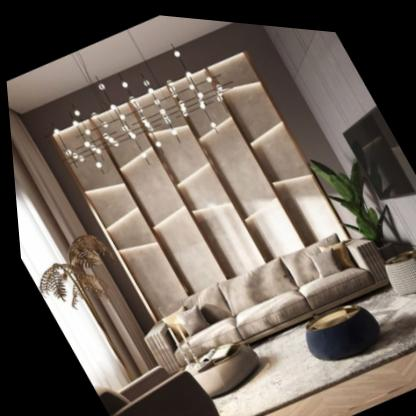Wall Panel: (8, 1, 387, 351)
